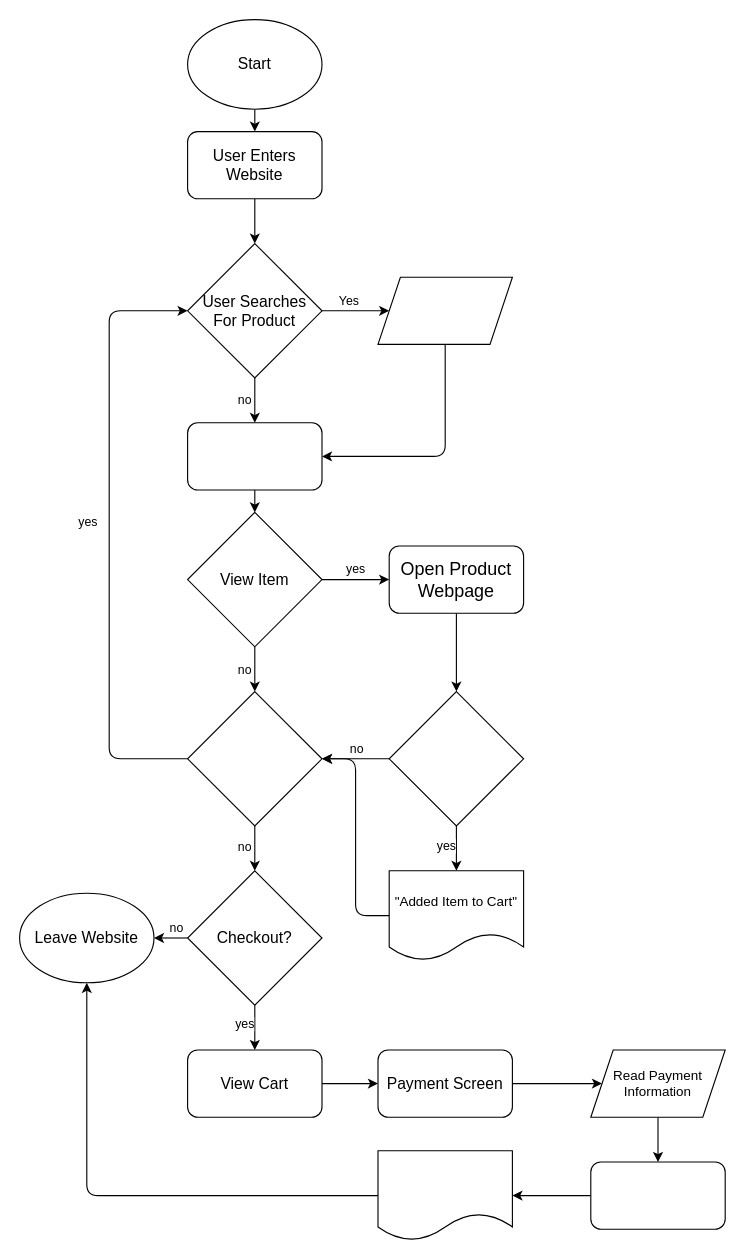
Image size: 745x1260. Some labels were removed from this diagram. The shapes that lost their labels are listed below. From the top down, each one's centre as x and y in pixels, then its label:
[444,310]: Read Query (Read Item)
[254,456]: Show Products
[254,758]: Continue Shopping
[456,758]: Add Product to Cart
[444,1195]: Email Sent
[657,1195]: Order Confirmation Page
